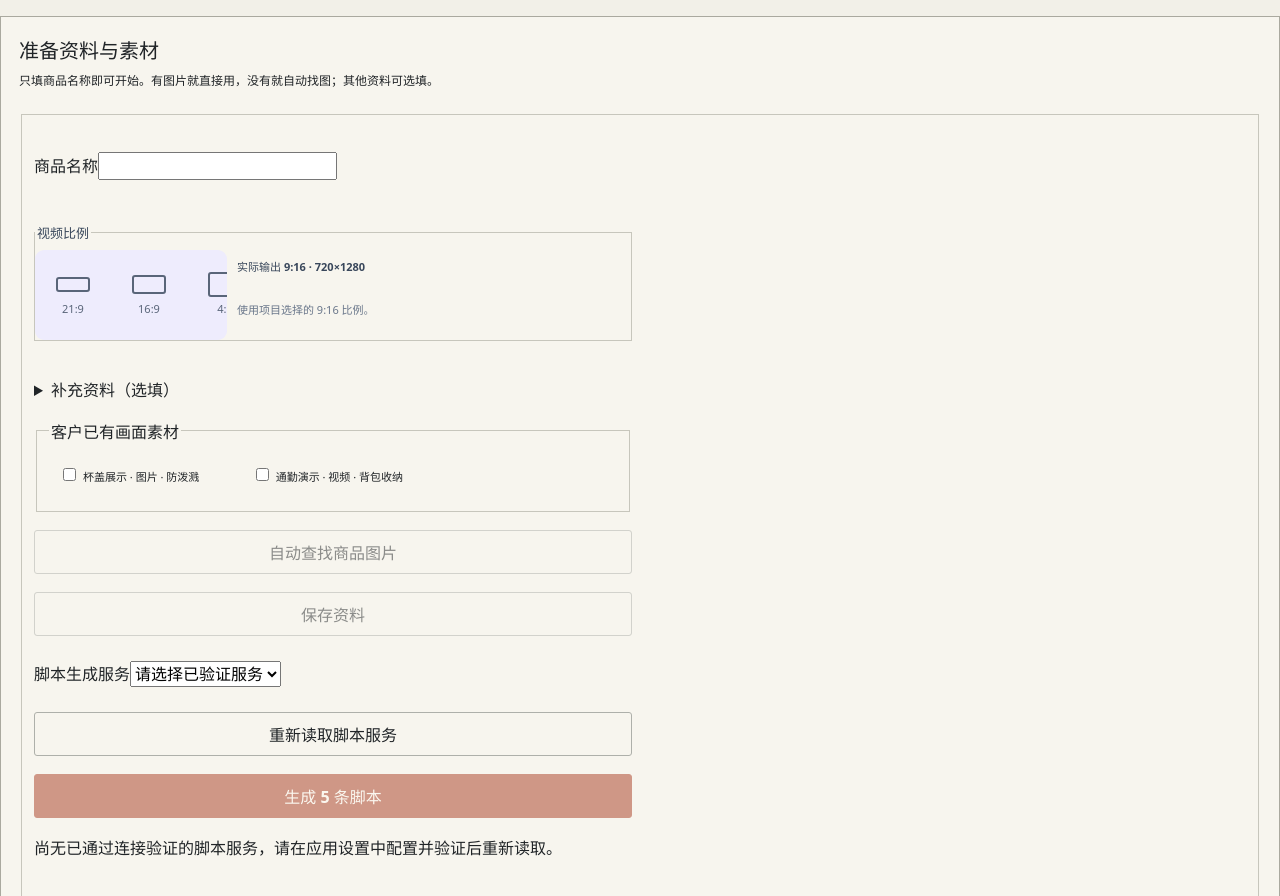
引导制作可先保存资料，无需配置服务或发送脚本
Type "稍后制作的商品" into the field labelled "商品名称" at (218, 166), box top-left (98, 152), bottom-right (337, 180)
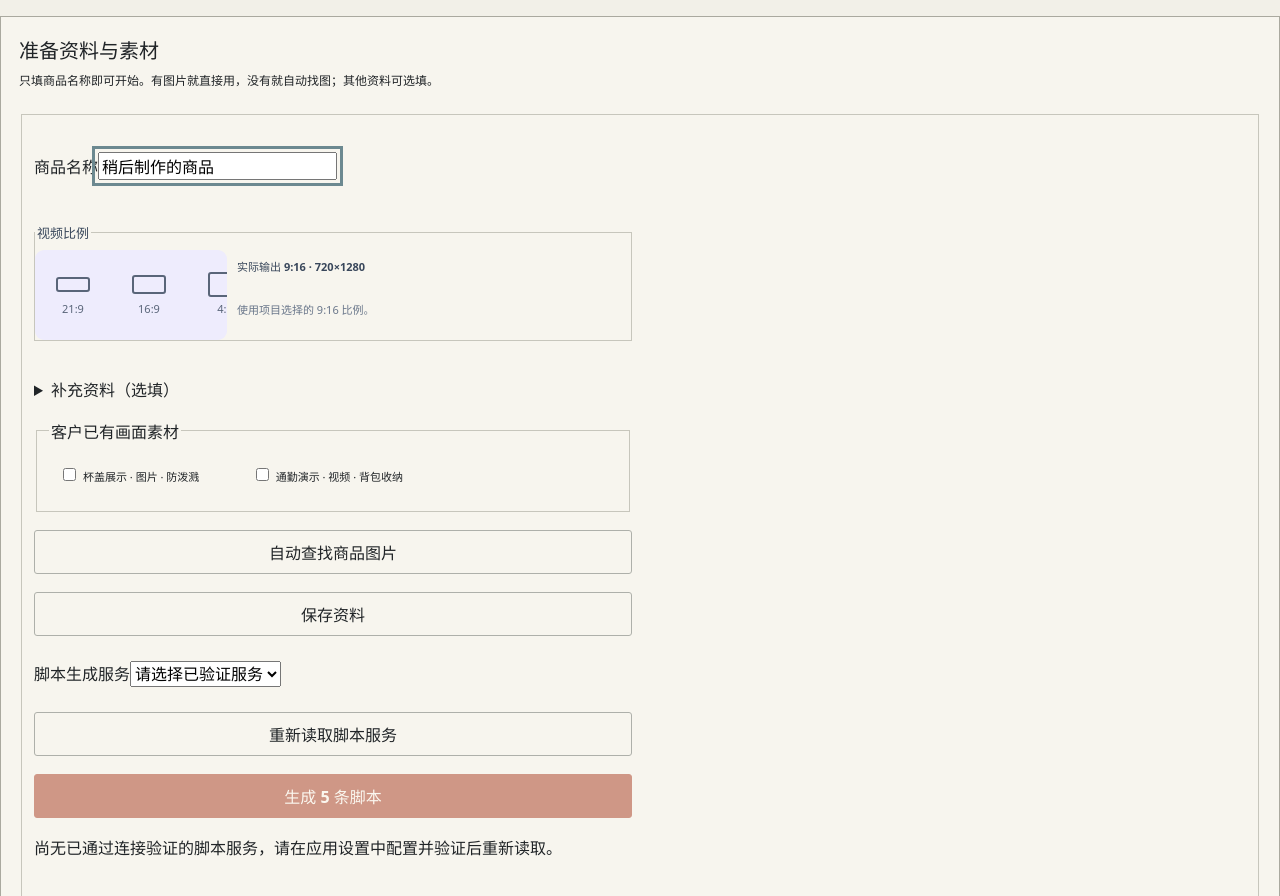
Click the button "保存资料" at (333, 614), box top-left (34, 592), bottom-right (632, 636)
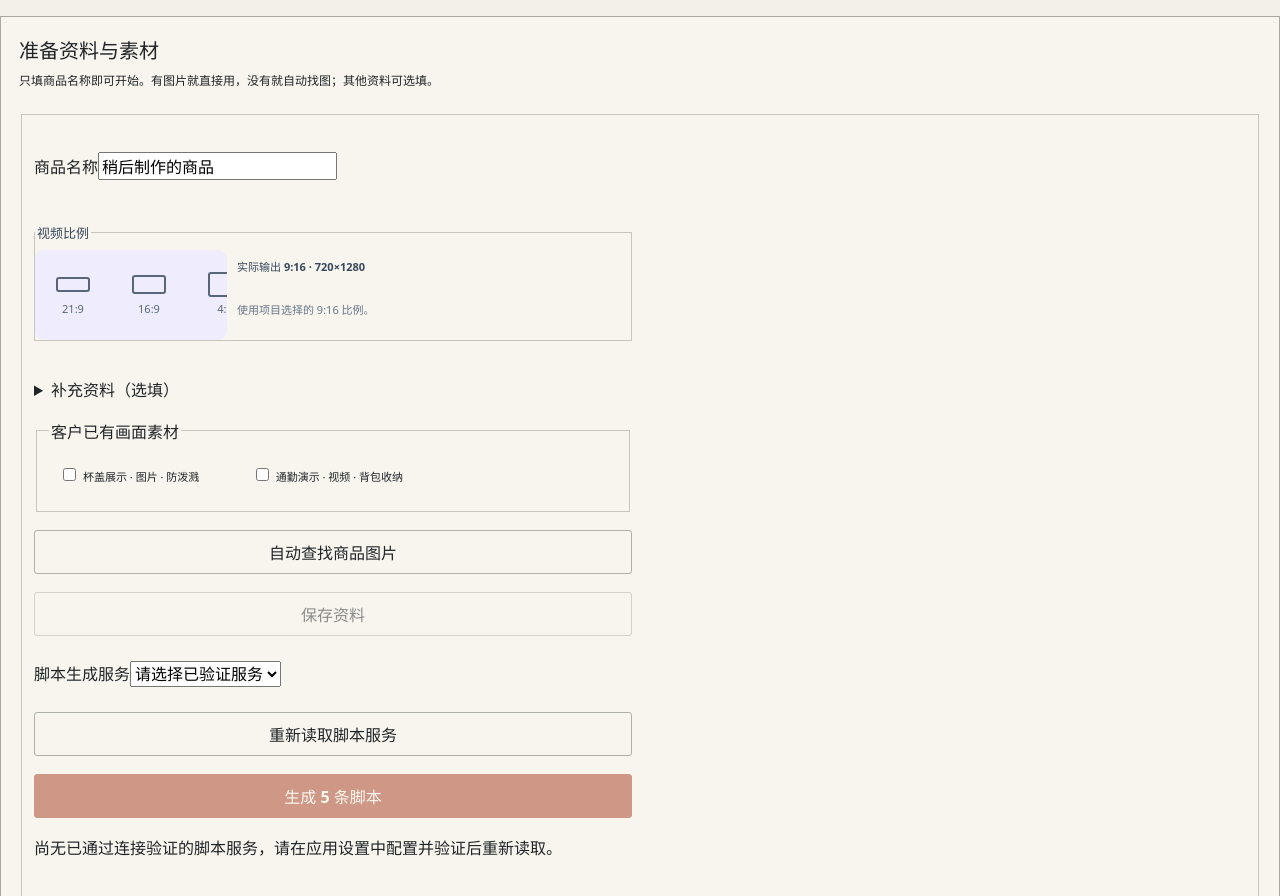
Result: the button "保存资料" is disabled at top-left (34, 592), bottom-right (632, 636)
